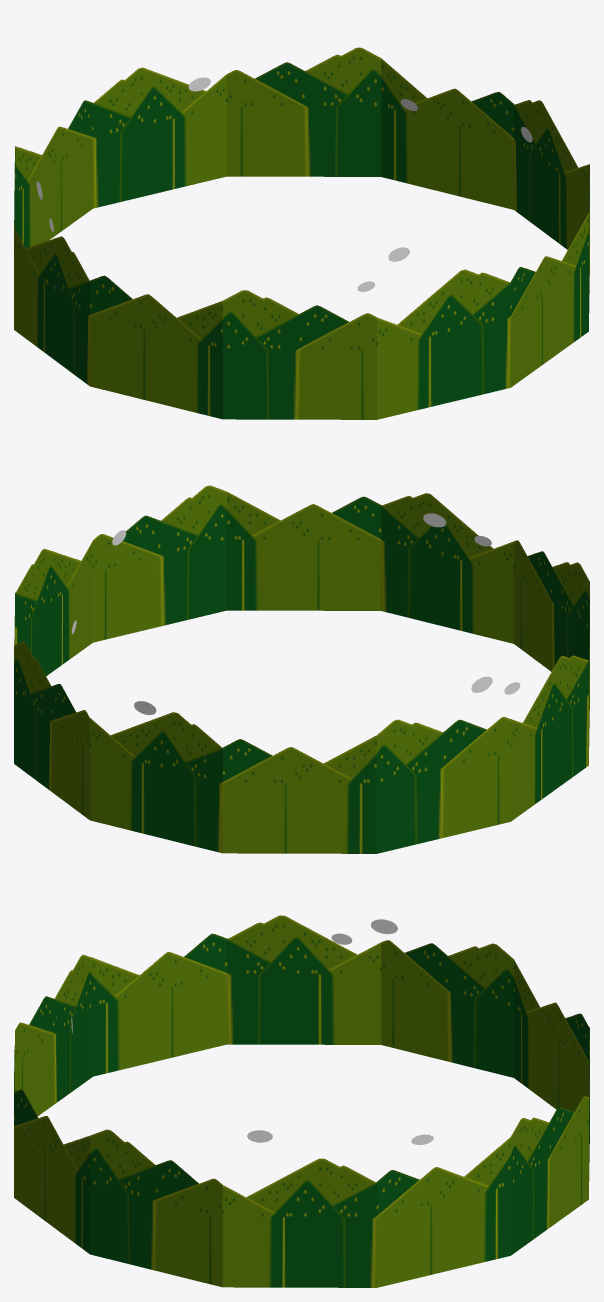
Rendered from skybox.glb.
The picture shows the model from 3 angles, top to bottom: view 1: azimuth 30°, elevation 25°; view 2: azimuth 150°, elevation 25°; view 3: azimuth 270°, elevation 25°; orthographic projection.
Visible parts, largest first — view 1: course_model_V; view 2: course_model_V; view 3: course_model_V.
Boxes of the visible parts, left/top/right/bottom form: course_model_V: left=14, top=47, right=589, bottom=419; course_model_V: left=14, top=485, right=589, bottom=853; course_model_V: left=14, top=915, right=589, bottom=1287.
Size of the model in its own units: 558 by 190 by 557.
Materials: 2 (2 with a texture image).
